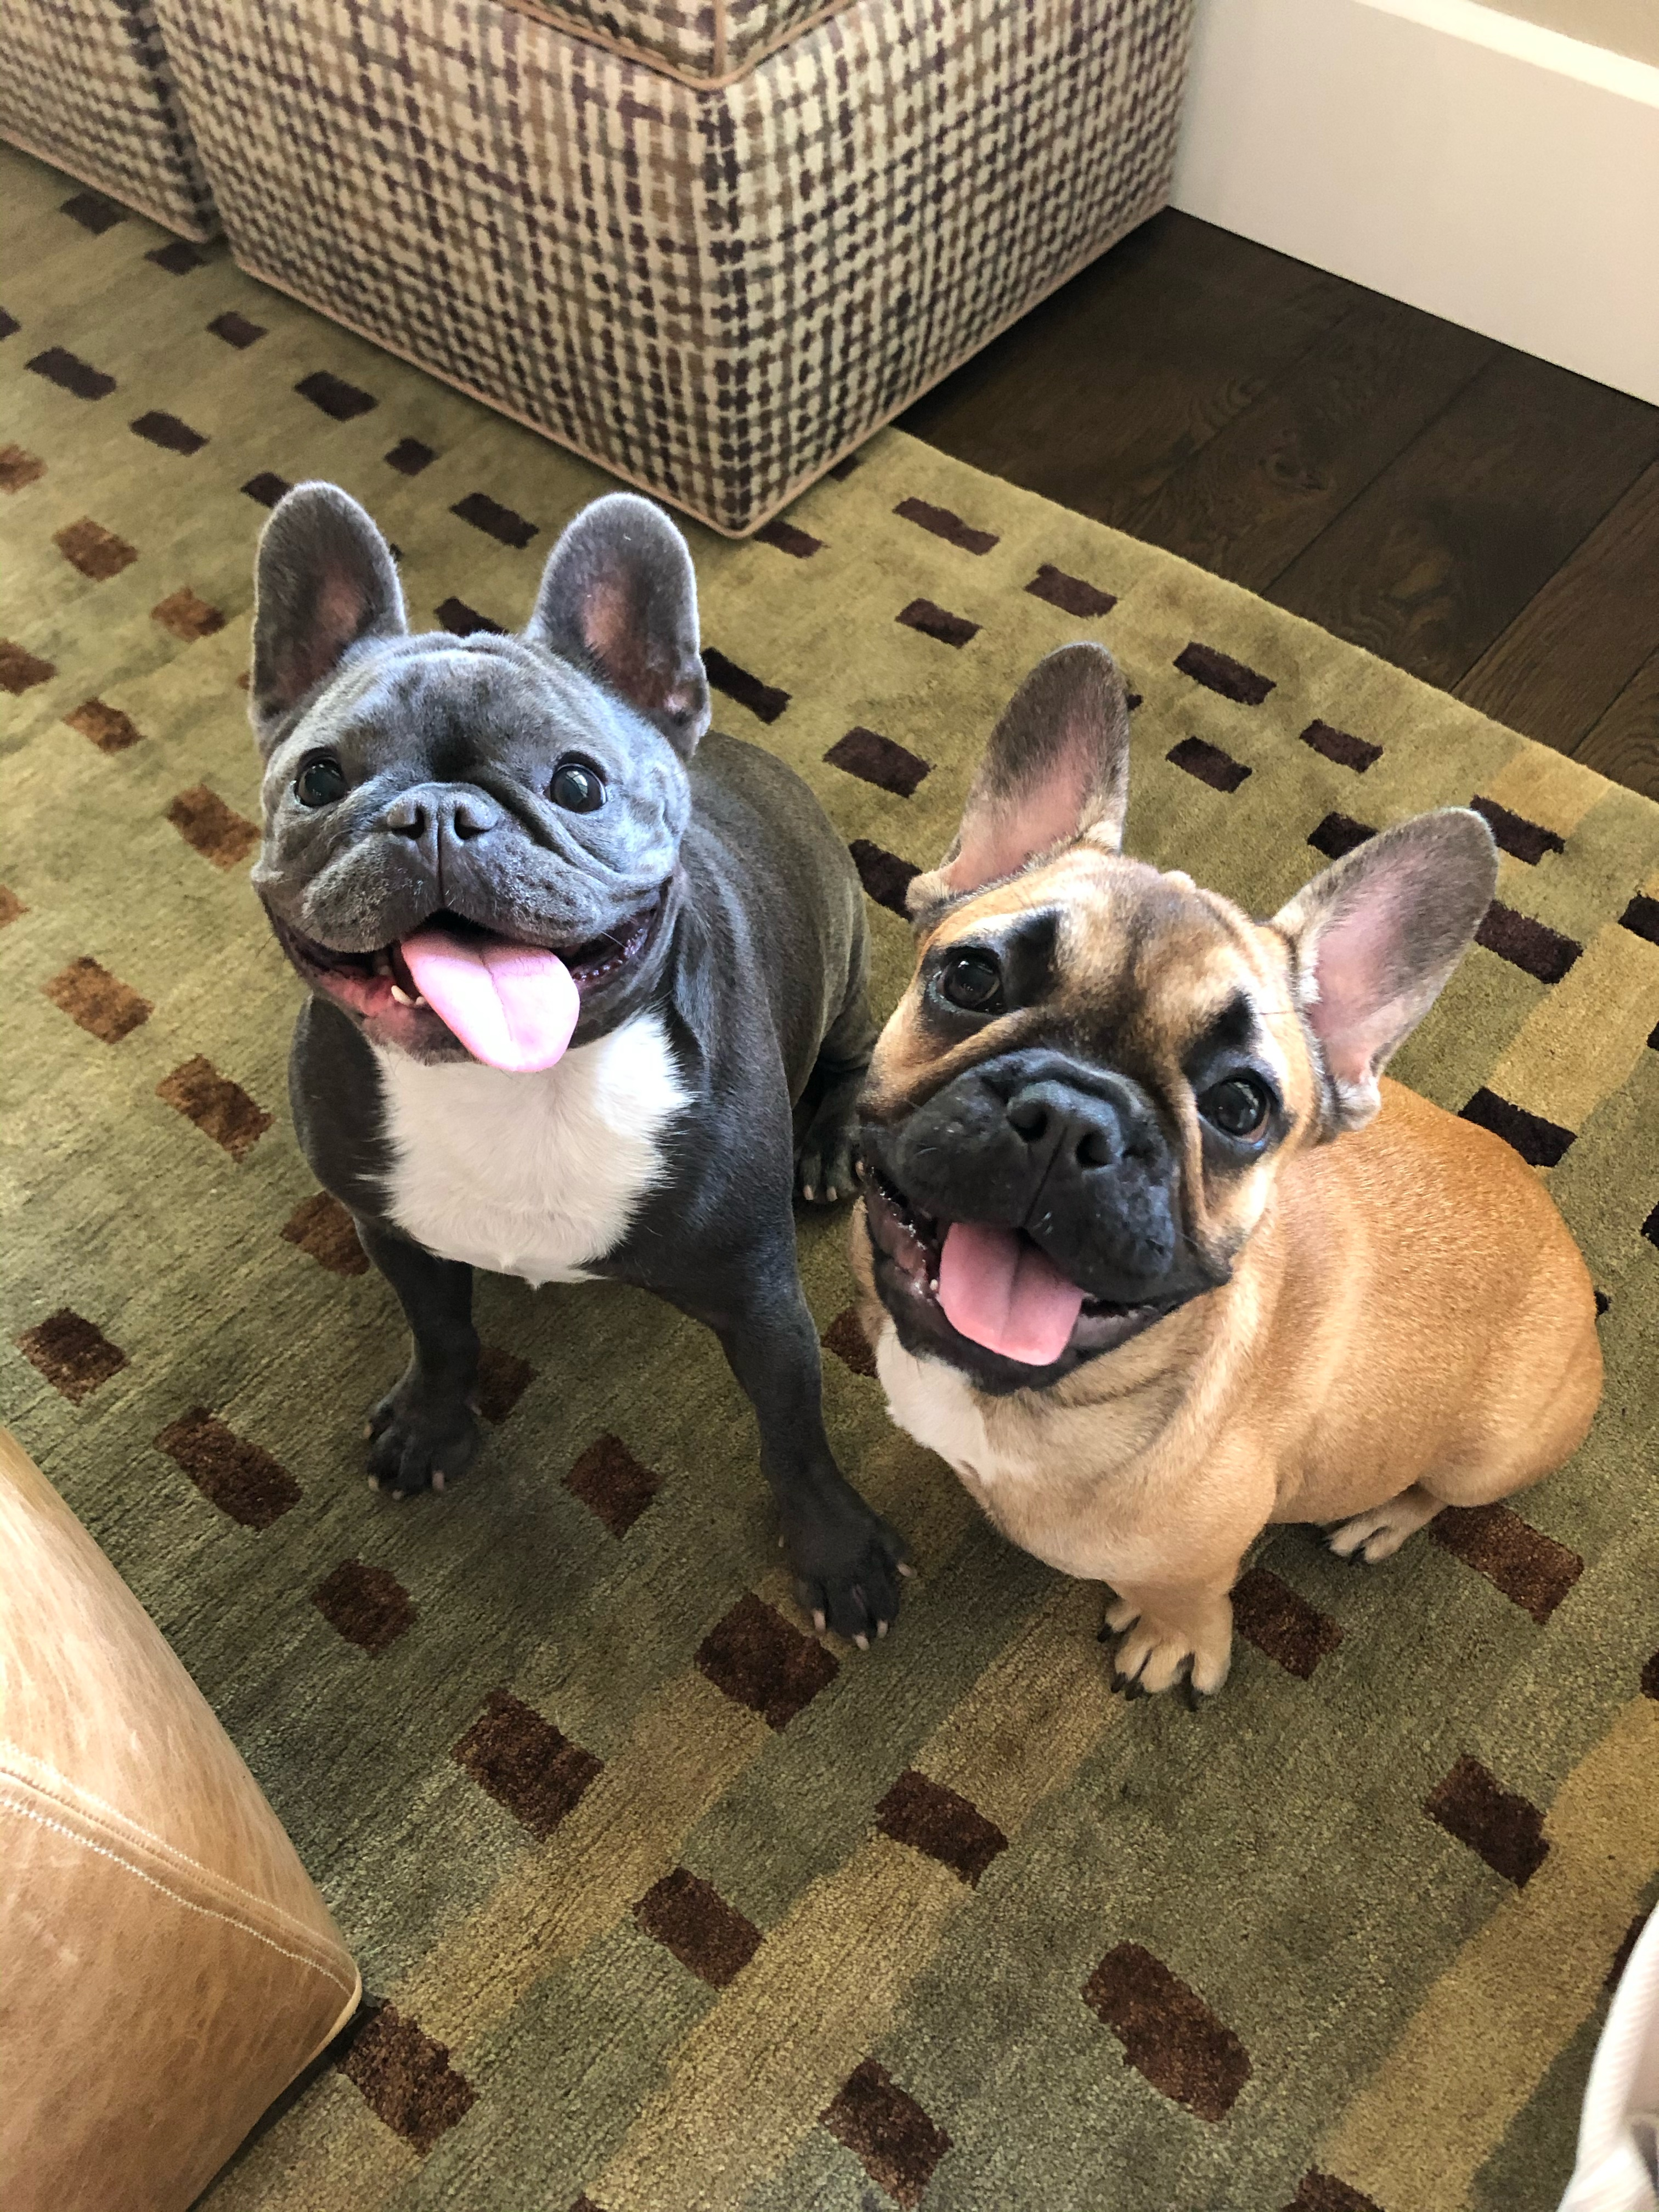lucy: (242, 472, 922, 1660)
